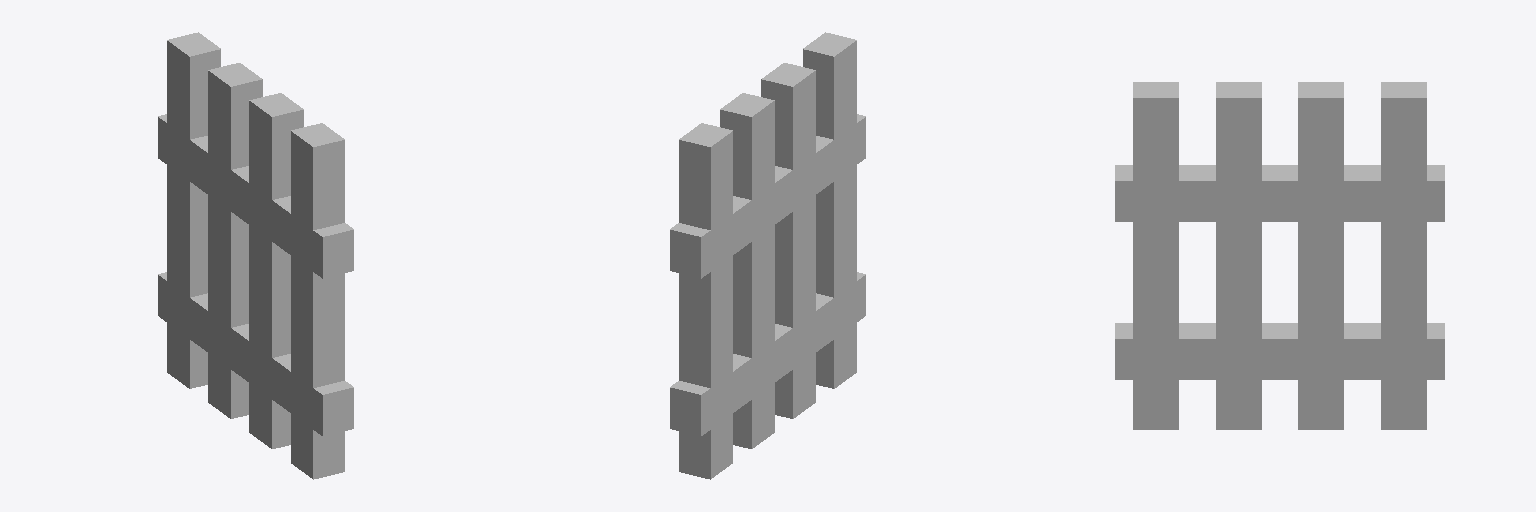
File: fence.obj
3 views of the same model, side by side, from view 1: azimuth 30°, elevation 25°; view 2: azimuth 150°, elevation 25°; view 3: azimuth 270°, elevation 25° (orthographic).
Visible parts, largest first — view 1: object 1; view 2: object 1; view 3: object 1.
Boxes of the visible parts, x1,y1,x2,y2 form: object 1: [158, 32, 353, 479]; object 1: [670, 32, 865, 479]; object 1: [1115, 82, 1444, 429].
Bounding box in the file's own units: 0.4 × 4 × 3.6.